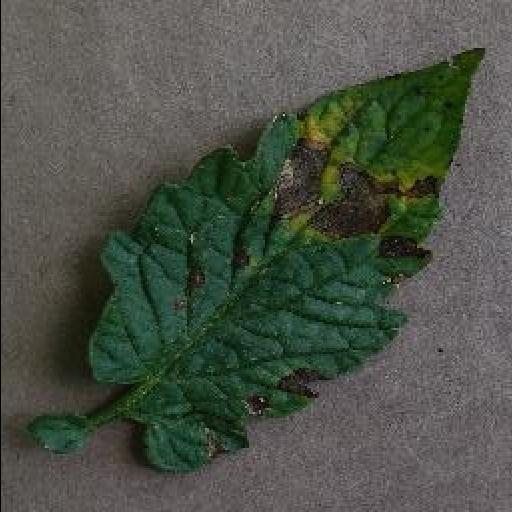disease_tomato: (81, 48, 487, 482)
